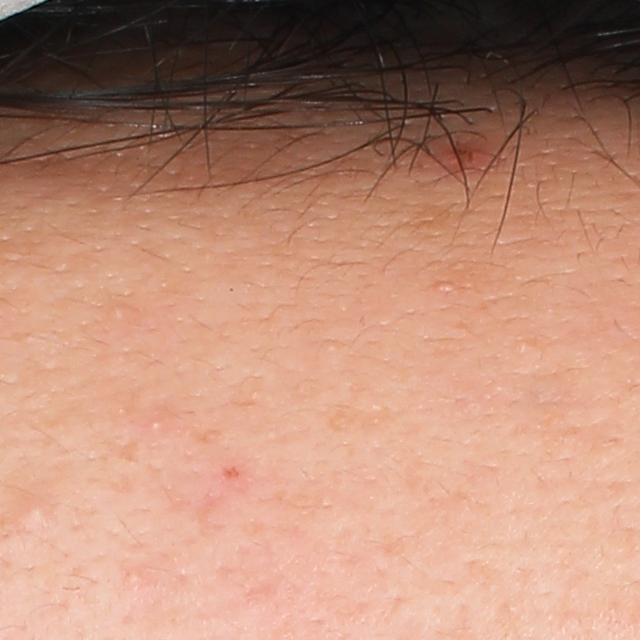comedo: (17, 497, 47, 522), (108, 303, 135, 330), (142, 412, 167, 433)
